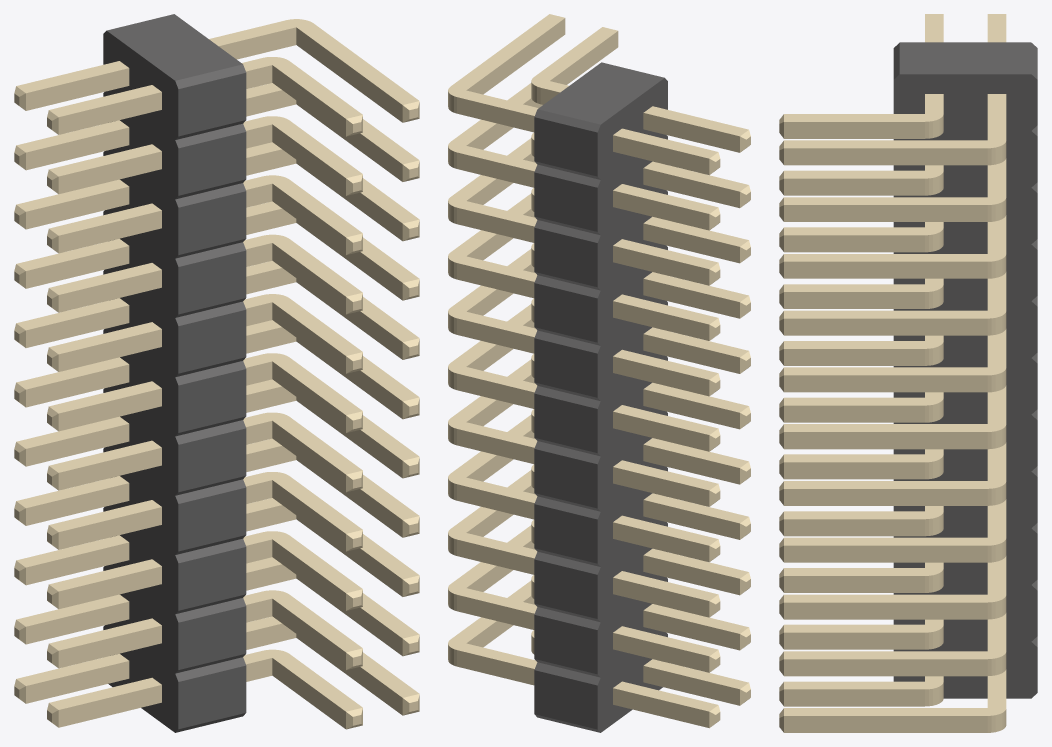
Rendered from PinHeader_2x11_P1.00mm_Horizontal.glb.
3 renders of one model, left to right at view 1: azimuth 30°, elevation 25°; view 2: azimuth 150°, elevation 25°; view 3: azimuth 270°, elevation 25°, orthographic. The views are drawn at different scales.
Parts seen in each view (by area): view 1: Shape_IndexedFaceSet.004, Shape_IndexedFaceSet.001, Shape_IndexedFaceSet.058, Shape_IndexedFaceSet.016, Shape_IndexedFaceSet.028, Shape_IndexedFaceSet.040, Shape_IndexedFaceSet.010, Shape_IndexedFaceSet.052, Shape_IndexedFaceSet.022, Shape_IndexedFaceSet.046, Shape_IndexedFaceSet.034, Shape_IndexedFaceSet.002 (+111 smaller); view 2: Shape_IndexedFaceSet.004, Shape_IndexedFaceSet.001, Shape_IndexedFaceSet.025, Shape_IndexedFaceSet.049, Shape_IndexedFaceSet.013, Shape_IndexedFaceSet.031, Shape_IndexedFaceSet.037, Shape_IndexedFaceSet.061, Shape_IndexedFaceSet.019, Shape_IndexedFaceSet.043, Shape_IndexedFaceSet.055, Shape_IndexedFaceSet.007 (+91 smaller); view 3: Shape_IndexedFaceSet.003, Shape_IndexedFaceSet.001, Shape_IndexedFaceSet.247, Shape_IndexedFaceSet.252, Shape_IndexedFaceSet.272, Shape_IndexedFaceSet.292, Shape_IndexedFaceSet.298, Shape_IndexedFaceSet.312, Shape_IndexedFaceSet.327, Shape_IndexedFaceSet.342, Shape_IndexedFaceSet.282, Shape_IndexedFaceSet.322 (+36 smaller).
Part boxes in pixels (x1,y1,x2,y2): Shape_IndexedFaceSet.004: (103,30,178,732); Shape_IndexedFaceSet.001: (107,14,242,80); Shape_IndexedFaceSet.058: (178,606,246,669); Shape_IndexedFaceSet.016: (178,191,246,254); Shape_IndexedFaceSet.028: (178,310,246,373); Shape_IndexedFaceSet.040: (178,428,246,492); Shape_IndexedFaceSet.010: (178,132,246,195); Shape_IndexedFaceSet.052: (178,547,246,610); Shape_IndexedFaceSet.022: (178,250,246,314); Shape_IndexedFaceSet.046: (178,487,246,551); Shape_IndexedFaceSet.034: (178,369,246,432); Shape_IndexedFaceSet.002: (178,73,246,136); Shape_IndexedFaceSet.004: (597,78,667,732); Shape_IndexedFaceSet.001: (538,62,664,124); Shape_IndexedFaceSet.025: (534,283,597,342); Shape_IndexedFaceSet.049: (534,504,597,563); Shape_IndexedFaceSet.013: (534,172,597,231); Shape_IndexedFaceSet.031: (534,338,597,397); Shape_IndexedFaceSet.037: (534,393,597,452); Shape_IndexedFaceSet.061: (534,615,597,674); Shape_IndexedFaceSet.019: (534,227,597,287); Shape_IndexedFaceSet.043: (534,449,597,508); Shape_IndexedFaceSet.055: (534,559,597,618); Shape_IndexedFaceSet.007: (534,117,597,176); Shape_IndexedFaceSet.003: (893,74,1037,698); Shape_IndexedFaceSet.001: (899,42,1031,74); Shape_IndexedFaceSet.247: (784,318,987,335); Shape_IndexedFaceSet.252: (784,375,987,392); Shape_IndexedFaceSet.272: (784,432,987,449); Shape_IndexedFaceSet.292: (784,659,987,676); Shape_IndexedFaceSet.298: (784,602,987,619); Shape_IndexedFaceSet.312: (784,545,987,562); Shape_IndexedFaceSet.327: (784,261,987,278); Shape_IndexedFaceSet.342: (784,148,987,165); Shape_IndexedFaceSet.282: (784,489,987,505); Shape_IndexedFaceSet.322: (784,205,987,221).
Size of the model in its own units: 2.03 by 4.33 by 1.62.
